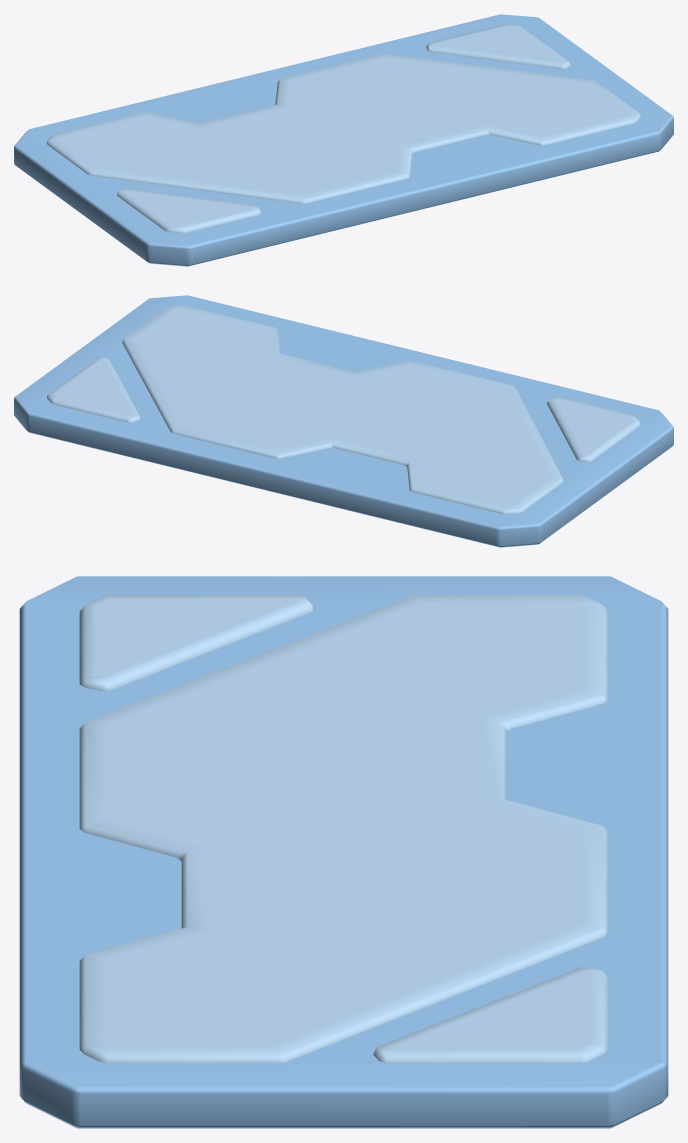
The model's file is platform_007.fbx.
The picture shows the model from 3 angles, top to bottom: view 1: azimuth 30°, elevation 25°; view 2: azimuth 150°, elevation 25°; view 3: azimuth 270°, elevation 25°; orthographic projection. The views are drawn at different scales.
Parts seen in each view (by area): view 1: platform_007; view 2: platform_007; view 3: platform_007.
Part boxes in pixels (<box>): platform_007: <box>14,14,673,266</box>; platform_007: <box>14,295,673,547</box>; platform_007: <box>19,576,668,1128</box>.
Size of the model in its own units: 785 by 418 by 34.93.
